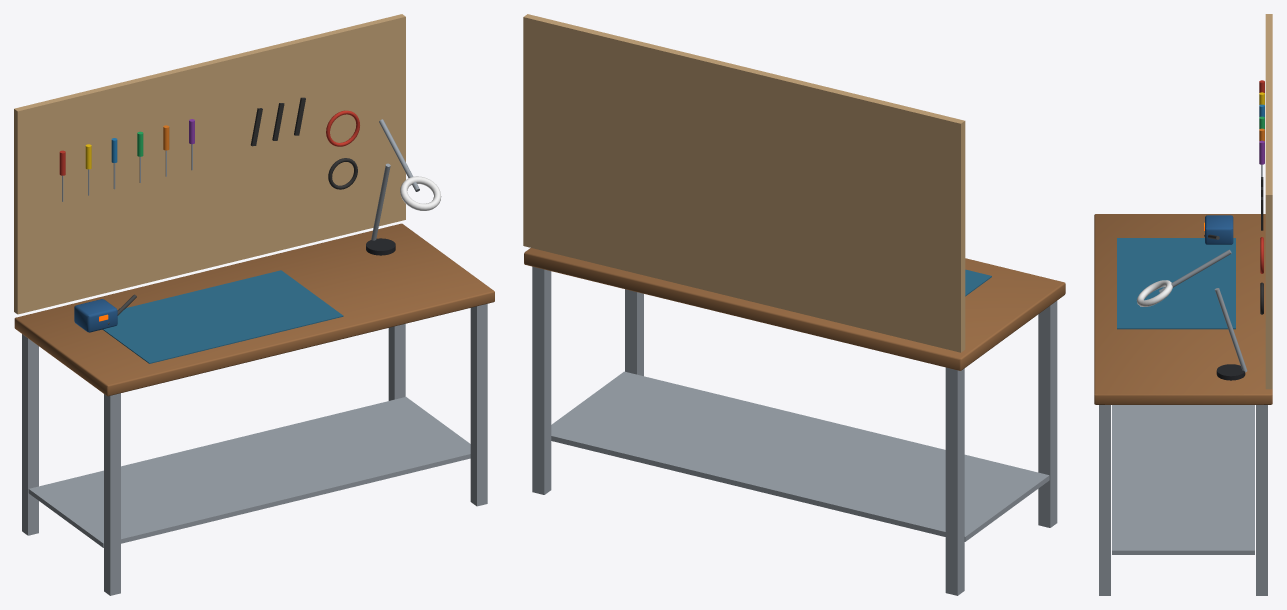
The model's file is workbench.glb.
3 renders of one model, left to right at view 1: azimuth 30°, elevation 25°; view 2: azimuth 150°, elevation 25°; view 3: azimuth 270°, elevation 25°, orthographic. The views are drawn at different scales.
Visible parts, largest first — view 1: bench, tools, lamp, solder; view 2: bench; view 3: bench, lamp, tools, solder.
Boxes of the visible parts, x1,y1,x2,y2 form: bench: (14,14,494,595); tools: (59,97,359,201); lamp: (366,119,441,255); solder: (74,294,136,332); bench: (523,14,1065,595); bench: (1094,14,1272,595); lamp: (1136,249,1247,380); tools: (1259,80,1264,314); solder: (1204,215,1233,244).
Bounding box in the file's own units: 1.8 × 1.87 × 0.75.
